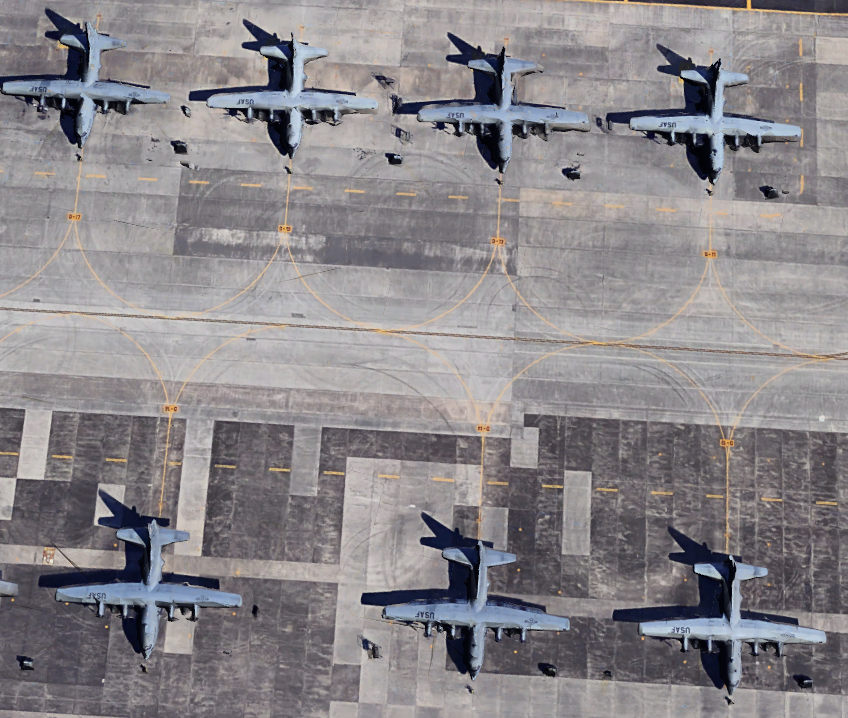A2: (54, 504, 246, 663), (379, 521, 571, 680), (636, 536, 828, 695), (618, 51, 808, 186), (202, 16, 385, 156), (3, 9, 178, 155), (413, 36, 595, 176)
